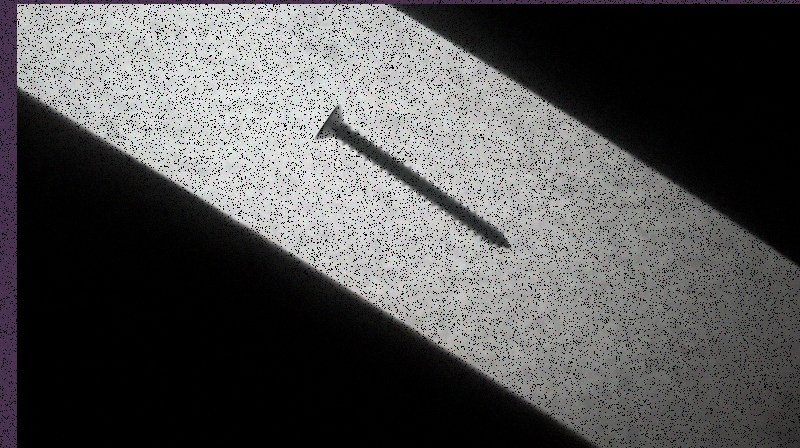S002: (309, 100, 512, 249)
